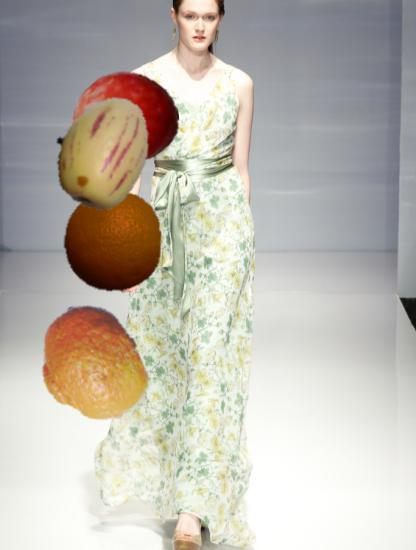Grape: (72, 67, 179, 174)
Mandarine: (30, 304, 152, 426)
Orange: (61, 189, 165, 293)
Pepino: (43, 95, 160, 212)
